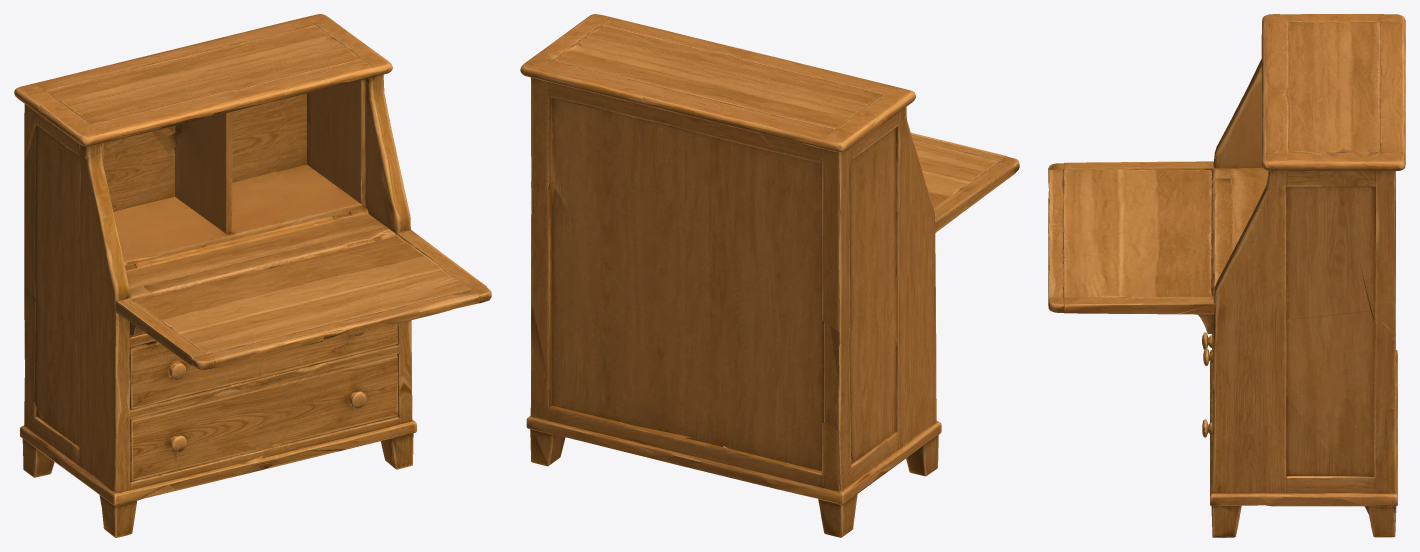
File: upm_mv3pqvh65x0.glb
The picture shows the model from 3 angles, left to right: view 1: azimuth 30°, elevation 25°; view 2: azimuth 150°, elevation 25°; view 3: azimuth 270°, elevation 25°; orthographic projection. The views are drawn at different scales.
Bounding box in the file's own units: 1.62 × 1.9 × 1.63.
1 material, 1 textured.
